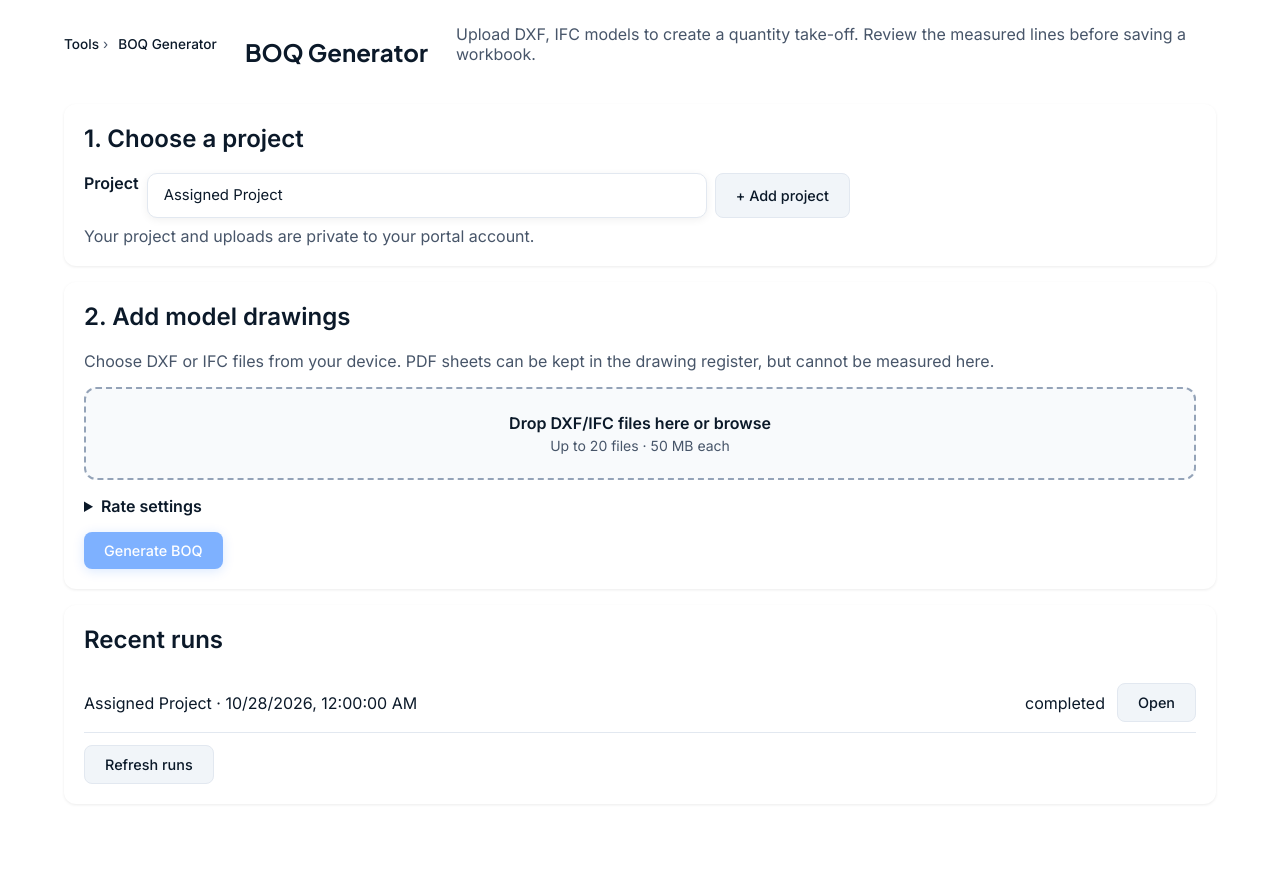
Test case: BOQ Generator user workflow › does not hide the page behind loading again when job search params change
Click the button "Open" at {"x": 1156, "y": 703}, box [1117,683,1196,722]
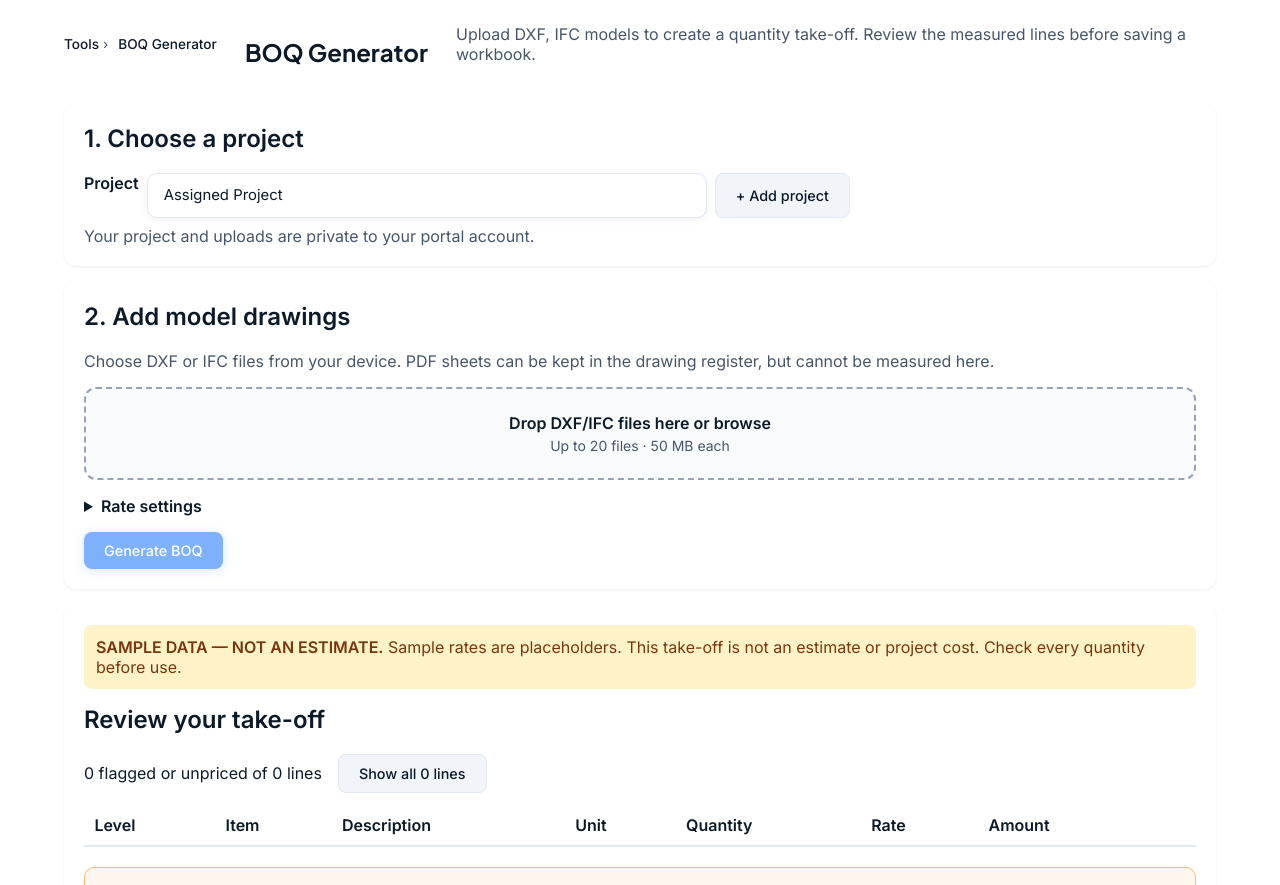
Result: the heading "Review your take-off" is shown at [84,705,325,734]
Result: the text "SAMPLE DATA — NOT AN ESTIMATE." is shown once at [96,637,384,657]
